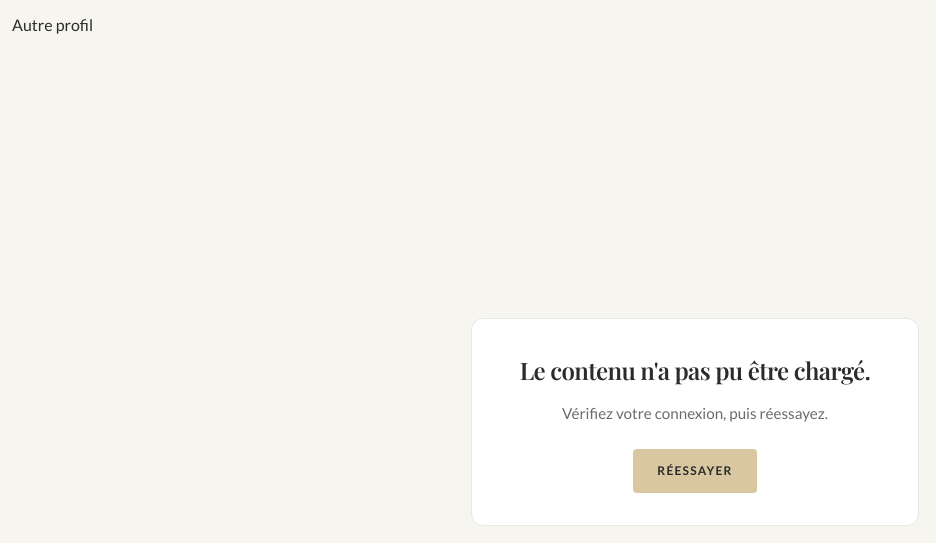
Test: Fiche du praticien de la visite courante › un profil absent n’interroge pas les cabinets et une erreur de transport autorise une reprise
Expected: the message is shown, [471, 318, 919, 526]
Click the button "Réessayer" at (695,471), box [633, 449, 757, 492]
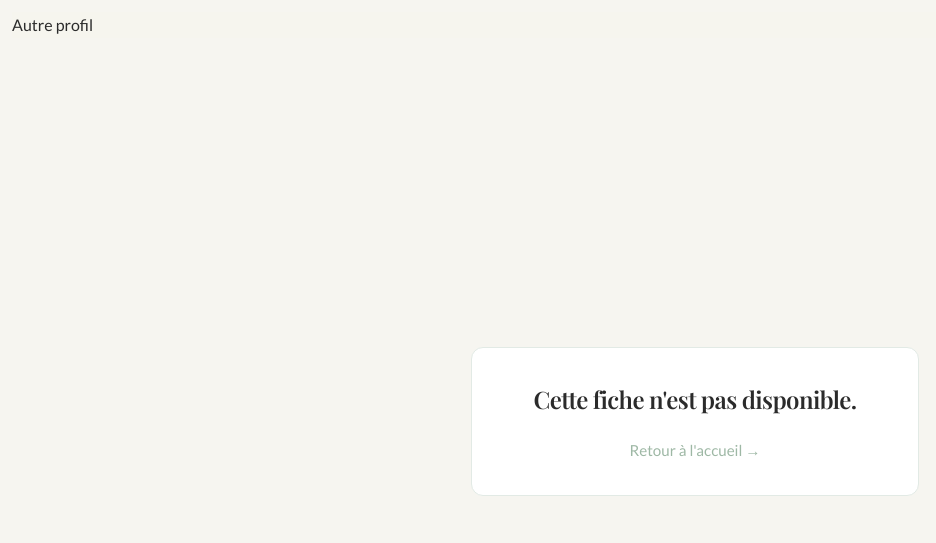
Now the text "Cette fiche n'est pas disponible" is shown, box [534, 383, 856, 415]
